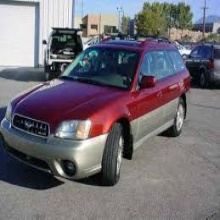no damage: (1, 39, 192, 186), (42, 29, 81, 75)
